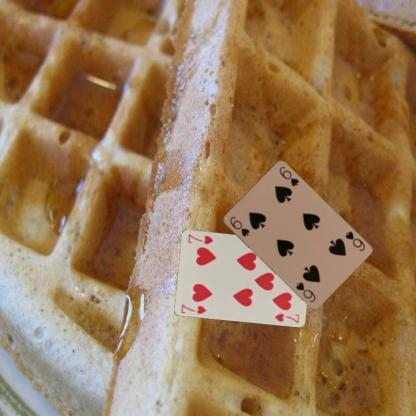6s: (342, 228, 366, 253), (228, 214, 250, 238)
7h: (178, 301, 209, 316)
